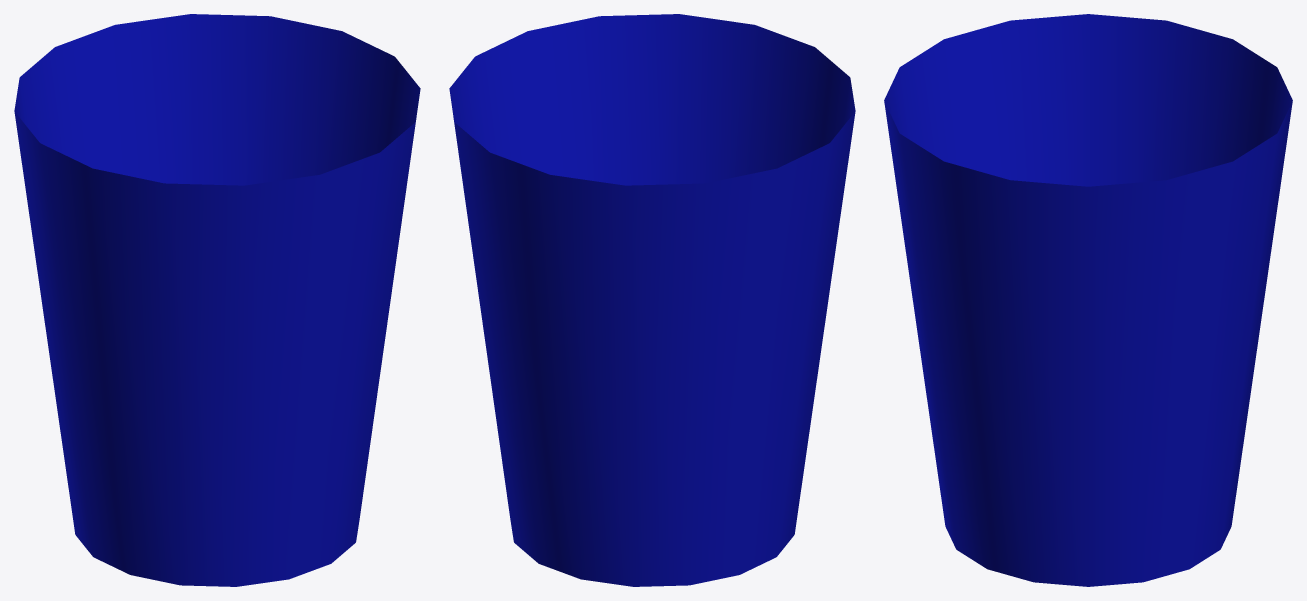
File: trampoline_plasma_003.fbx
3 renders of one model, left to right at view 1: azimuth 30°, elevation 25°; view 2: azimuth 150°, elevation 25°; view 3: azimuth 270°, elevation 25°, orthographic.
Visible parts, largest first — view 1: trampoline_plasma_003; view 2: trampoline_plasma_003; view 3: trampoline_plasma_003.
Part boxes in pixels (x1=…): trampoline_plasma_003: x1=14, y1=14, x2=420, y2=586; trampoline_plasma_003: x1=449, y1=14, x2=855, y2=586; trampoline_plasma_003: x1=884, y1=14, x2=1292, y2=586.
Size of the model in its own units: 110 by 110 by 127.
